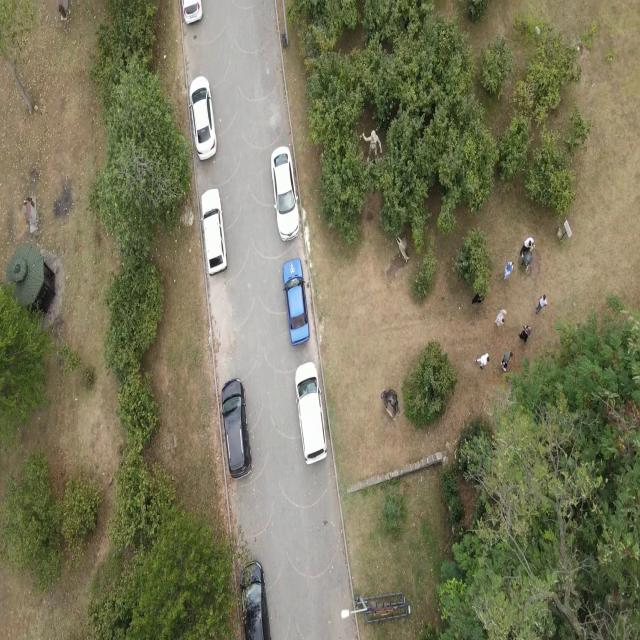people: (534, 293, 548, 317), (501, 350, 513, 372), (474, 353, 490, 369), (520, 237, 533, 255), (494, 309, 506, 327), (519, 326, 532, 342), (504, 261, 514, 280)
